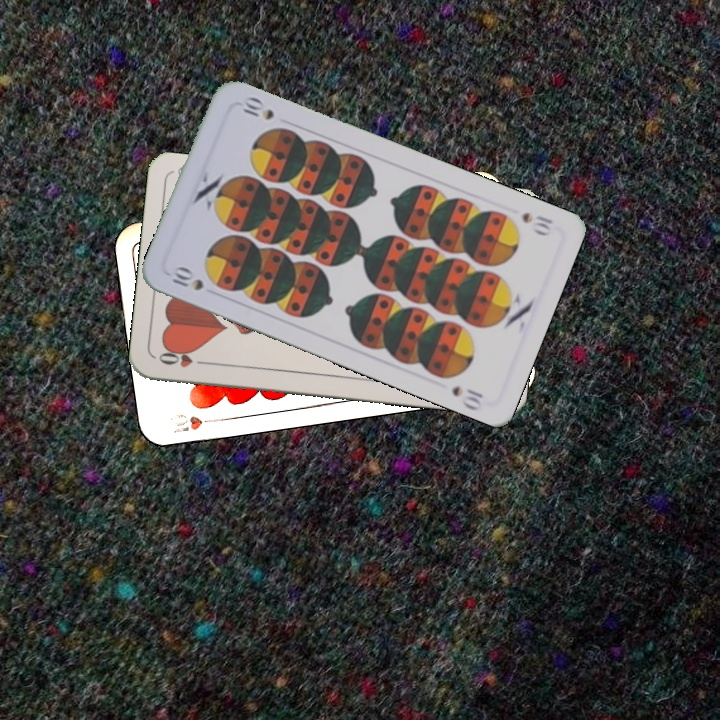H10: (169, 409, 223, 436)
HO: (154, 346, 212, 371)
S10: (166, 262, 206, 293), (518, 208, 556, 239)
